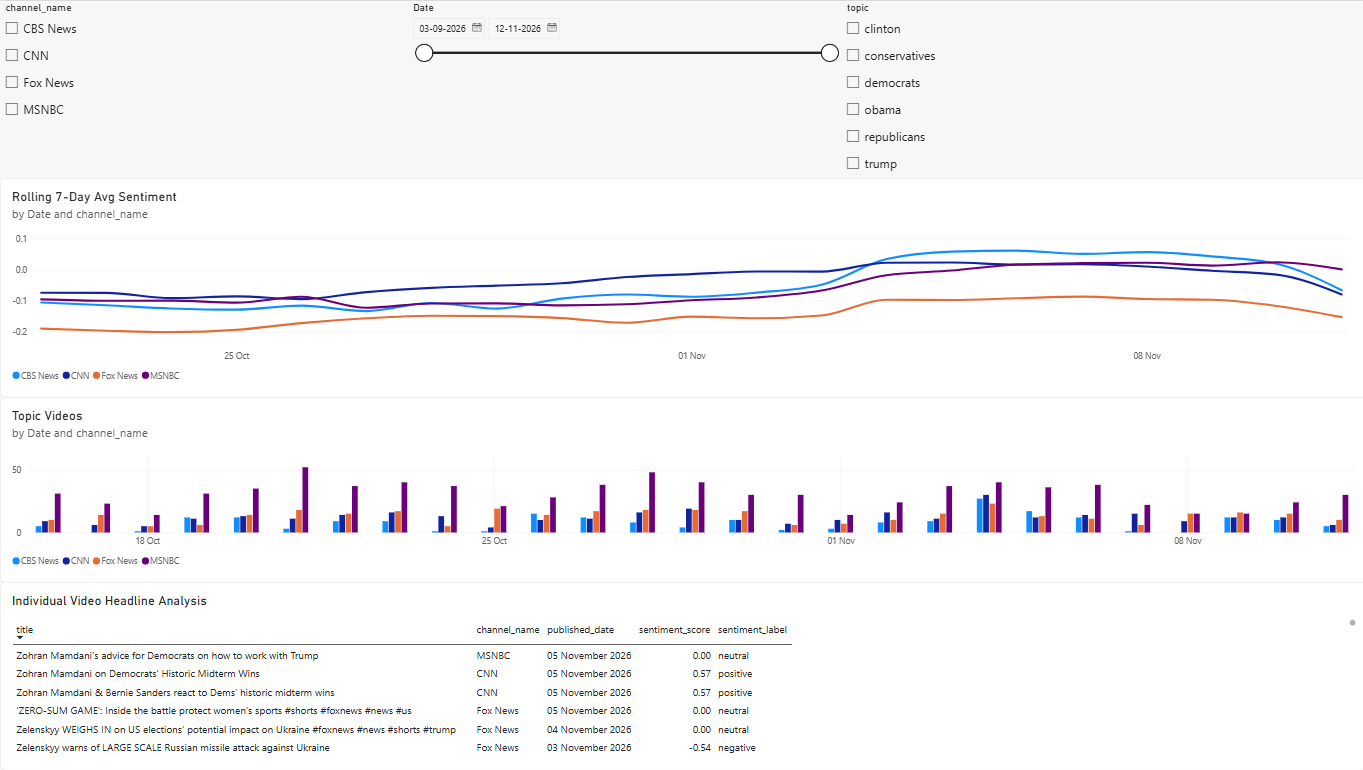

The dashboard page shown, as its layout file describes it:
{"tool":"powerbi","page":{"name":"Detailed Analysis","canvas":[1920,1080],"ordinal":2},"visuals":[{"type":"slicer","fields":{"Values":["dim_channel.channel_name"]},"box":[0,0,571.9,249.1],"z":0},{"type":"slicer","fields":{"Values":["dim_date.Date"]},"box":[571.9,0,608.8,249.1],"z":1000},{"type":"slicer","fields":{"Values":["video_topics.topic"]},"box":[1180.7,0,738.6,249.1],"z":2000},{"type":"lineChart","fields":{"Category":["dim_date.Date"],"Series":["dim_channel.channel_name"],"Y":["My Calculations.Rolling 7-Day Avg Sentiment"]},"box":[0,249.1,1919.3,307],"z":3000},{"type":"clusteredColumnChart","fields":{"Category":["dim_date.Date"],"Series":["dim_channel.channel_name"],"Y":["My Calculations.Topic Videos"]},"box":[0,556,1920,260],"z":4000},{"type":"tableEx","title":"Individual Video Headline Analysis","fields":{"Values":["fact_videos.title","dim_channel.channel_name","fact_videos.published_date","fact_videos.sentiment_score","fact_videos.sentiment_label"]},"box":[0,816,1920,264],"z":5000}]}

Visuals, with their boxes in screenshot pixels (x1, y1, x2, y2), scaled from the page's 1920x1080 canvas onto the 1363x770 screenshot:
slicer - dim_channel.channel_name: crop(0, 0, 406, 178)
slicer - dim_date.Date: crop(406, 0, 838, 178)
slicer - video_topics.topic: crop(838, 0, 1362, 178)
lineChart - dim_date.Date x dim_channel.channel_name: crop(0, 178, 1362, 396)
clusteredColumnChart - dim_date.Date x dim_channel.channel_name: crop(0, 396, 1362, 582)
"Individual Video Headline Analysis" tableEx: crop(0, 582, 1362, 769)
